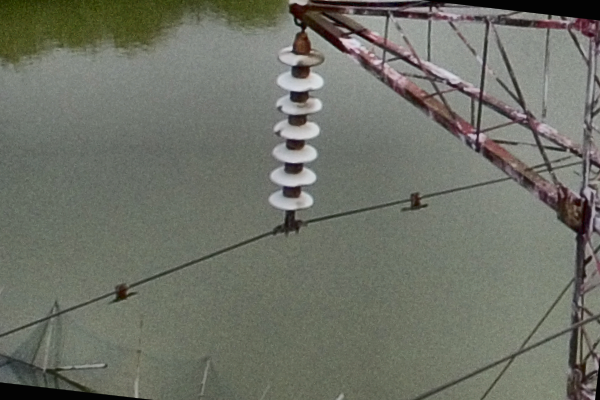damper_defect: (104, 281, 139, 307), (398, 190, 432, 213)
